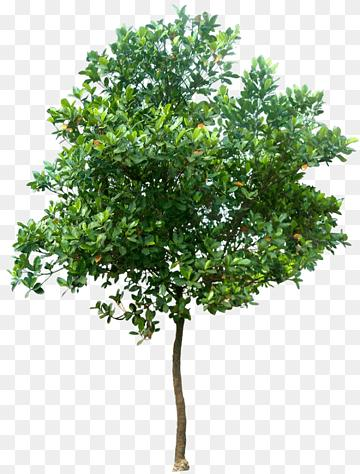tree: (13, 8, 360, 473)
